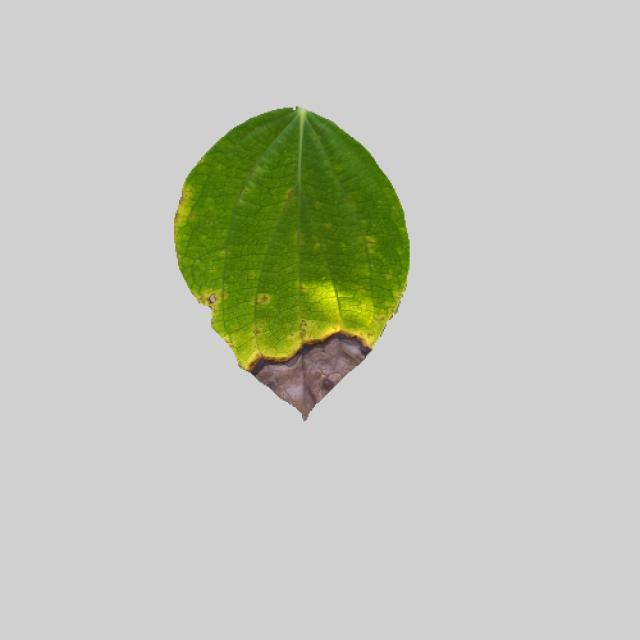leaf-blight: (166, 102, 418, 420)
